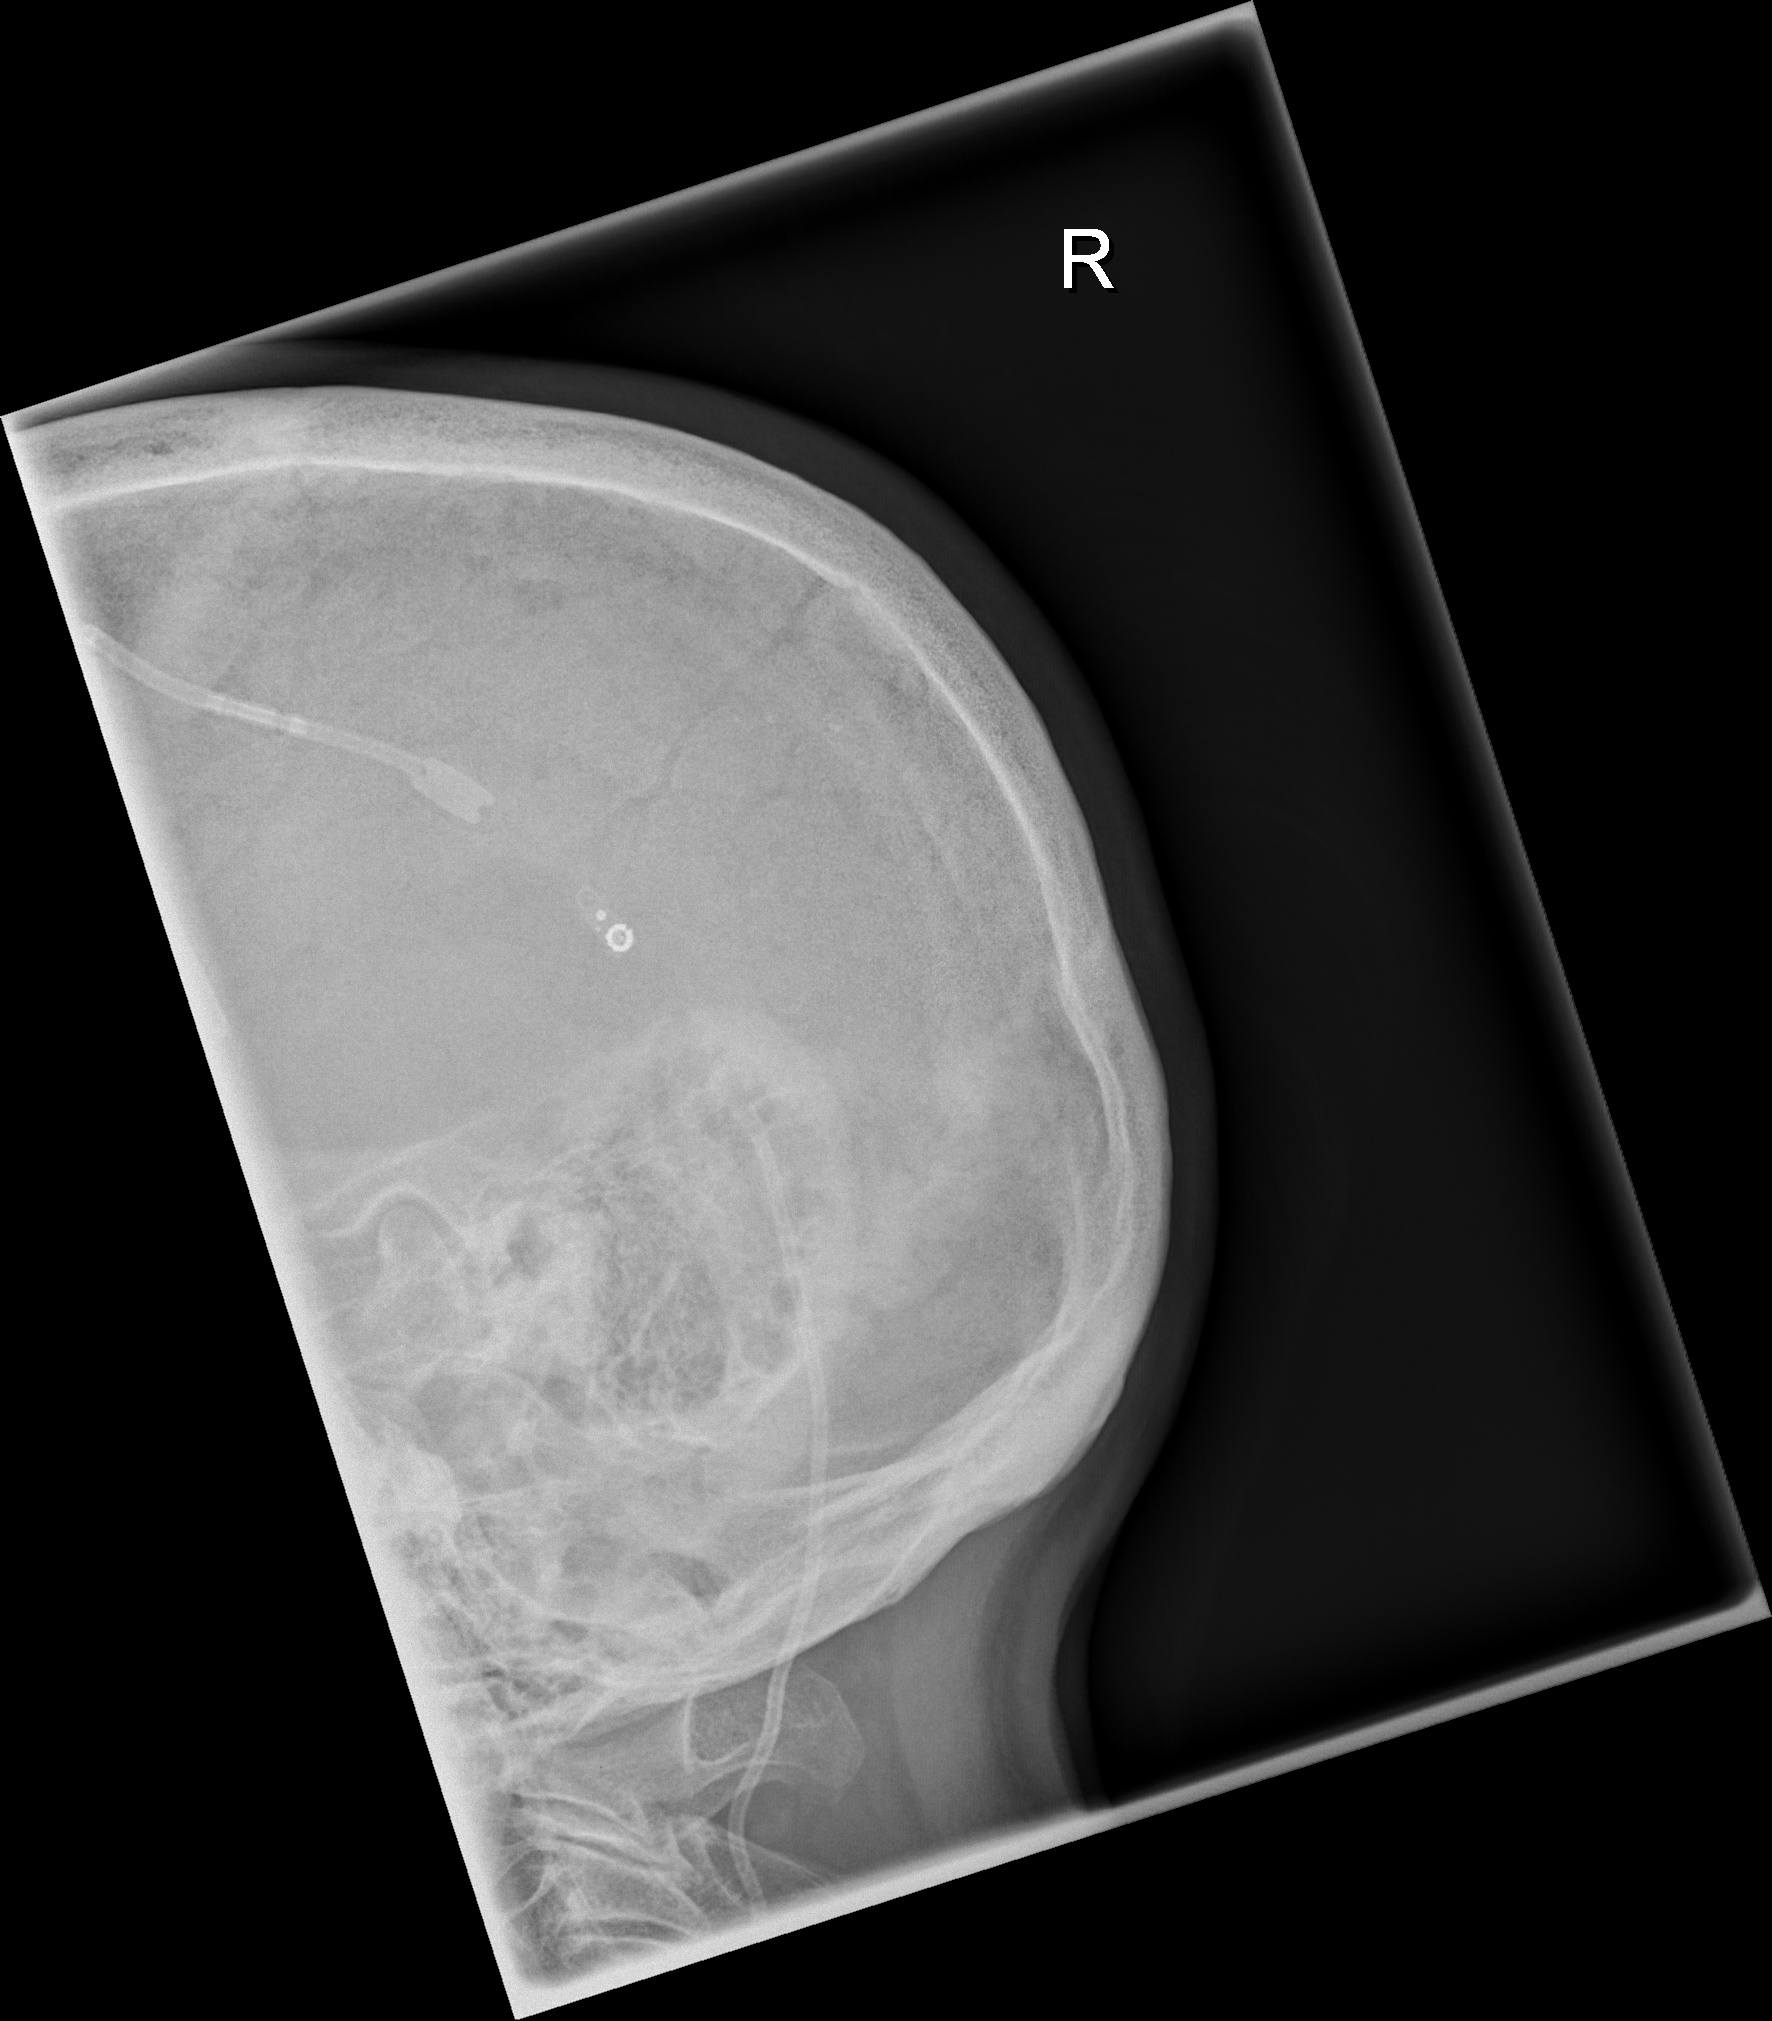Codman Hakim: (586, 895, 650, 962)
